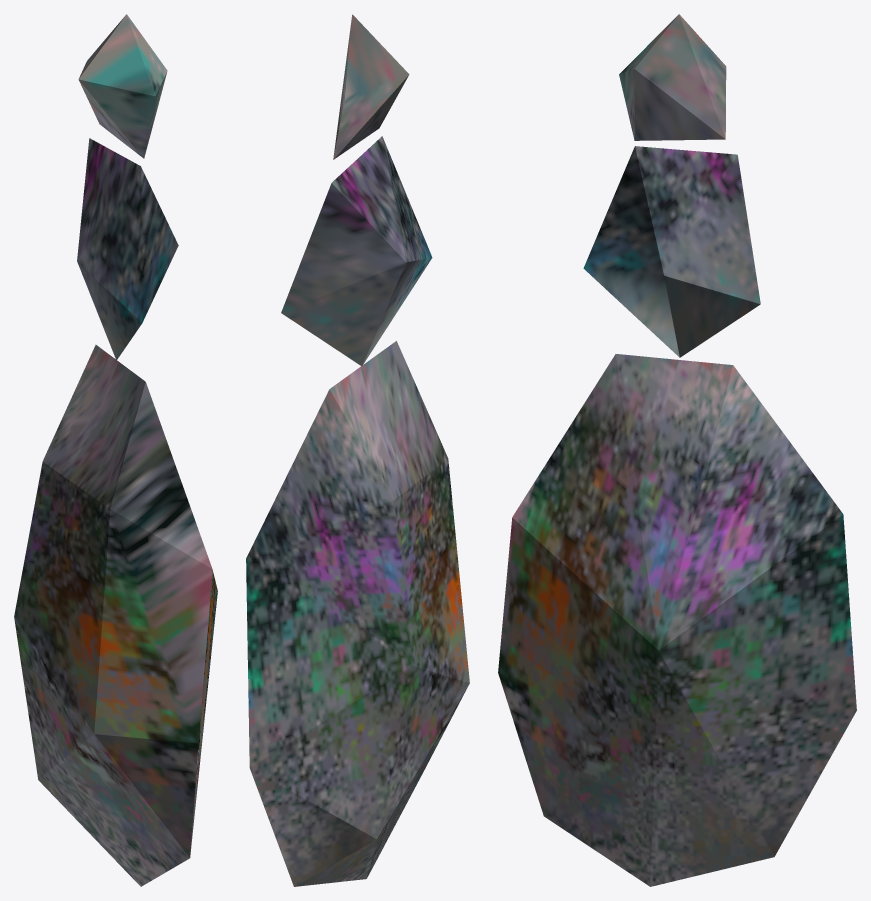
File: earring_s02_l0.fbx
3 renders of one model, left to right at view 1: azimuth 30°, elevation 25°; view 2: azimuth 150°, elevation 25°; view 3: azimuth 270°, elevation 25°, orthographic.
Visible parts, largest first — view 1: mesh_node; view 2: mesh_node; view 3: mesh_node.
Boxes of the visible parts, x1,y1,x2,y2 form: mesh_node: (14,14,217,886); mesh_node: (246,14,469,886); mesh_node: (498,14,856,886).
Size of the model in its own units: 0.0161 by 0.0793 by 0.0296.
